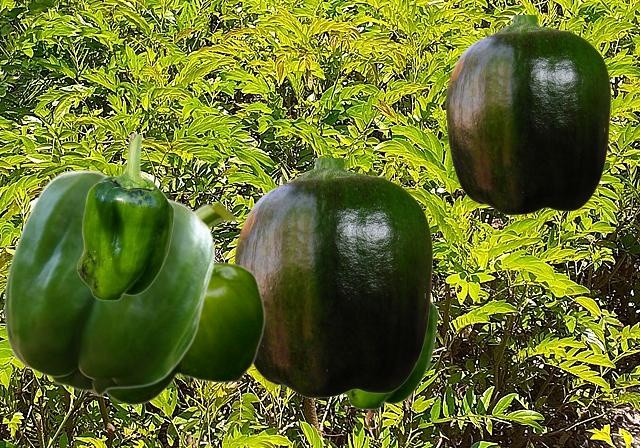bell_pepper: (3, 169, 214, 395), (234, 158, 432, 397), (445, 15, 610, 214), (106, 201, 264, 405), (76, 132, 173, 300), (344, 300, 437, 409)
